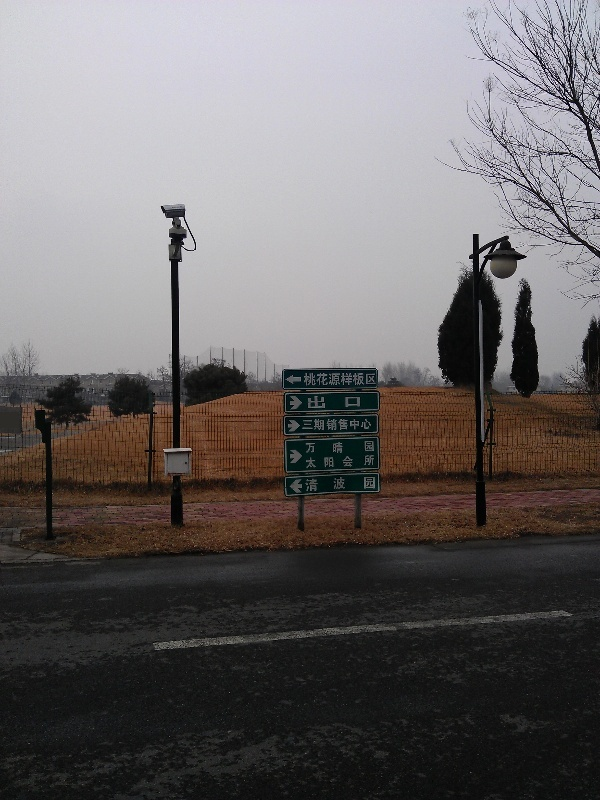text: (305, 476, 320, 492), (321, 476, 336, 492), (337, 476, 352, 492), (353, 476, 368, 492), (305, 372, 320, 387), (321, 372, 336, 387), (337, 372, 352, 387), (353, 372, 368, 387), (321, 396, 336, 410), (337, 396, 352, 410), (305, 418, 320, 432), (321, 418, 336, 432), (337, 418, 352, 432), (353, 418, 368, 432), (305, 441, 320, 455), (321, 441, 336, 455), (337, 441, 352, 455), (353, 441, 368, 455), (305, 455, 320, 469), (321, 455, 336, 469), (337, 455, 352, 469), (353, 455, 368, 469), (307, 396, 320, 410), (353, 396, 363, 410), (369, 476, 377, 492), (369, 372, 376, 387), (369, 441, 376, 455), (369, 455, 376, 469), (369, 418, 373, 432), (302, 418, 304, 432)
